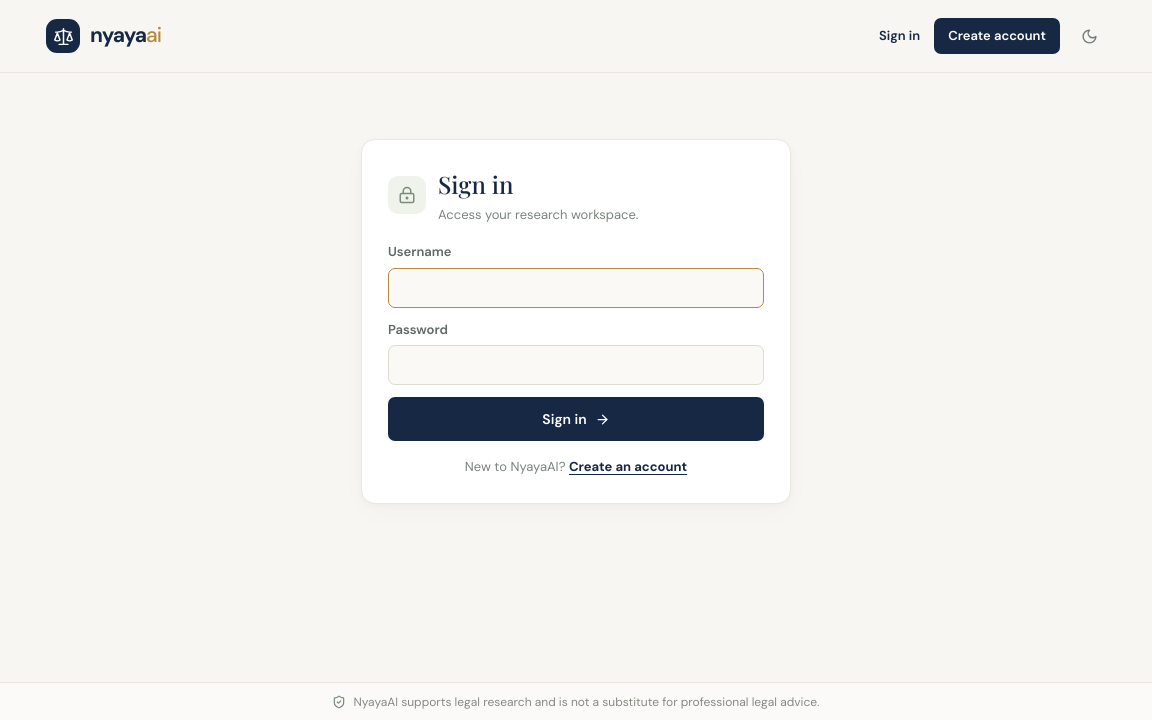
Test case: authentication and route protection › shows the server error for rejected credentials
Type "researcher" into the field labelled "Username" at (576, 288), box left=388, top=268, right=764, bottom=308
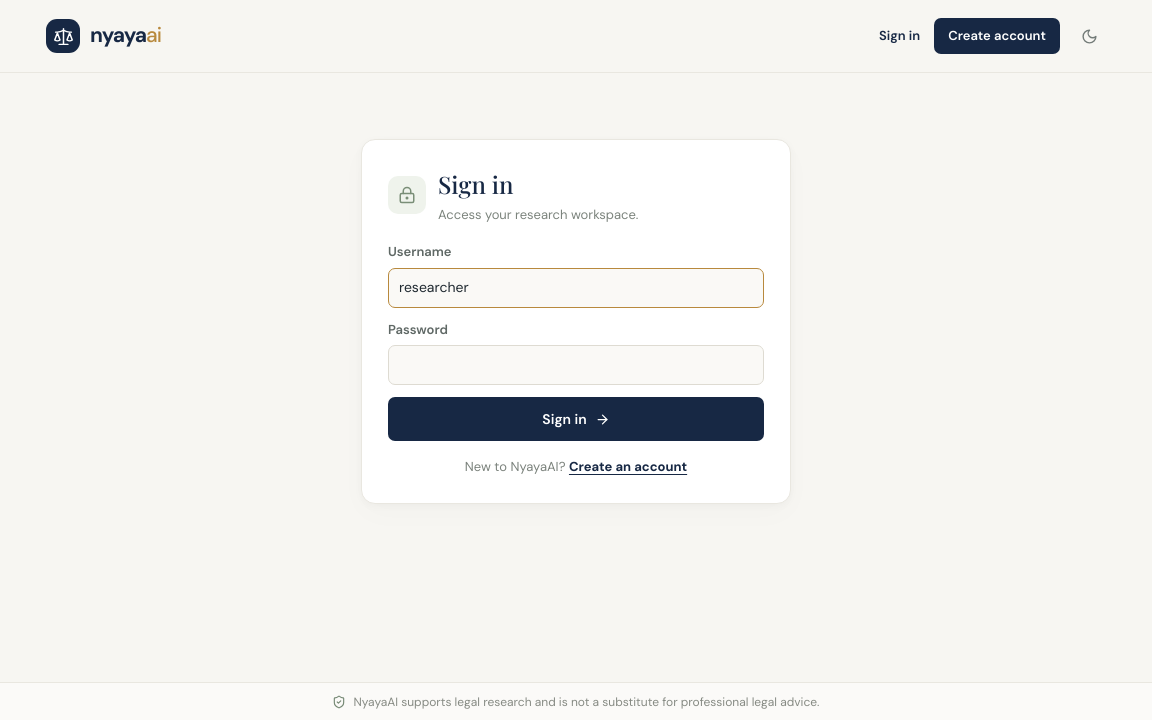
Type "wrong-password" into the password field labelled "Password" at (576, 365), box left=388, top=345, right=764, bottom=385
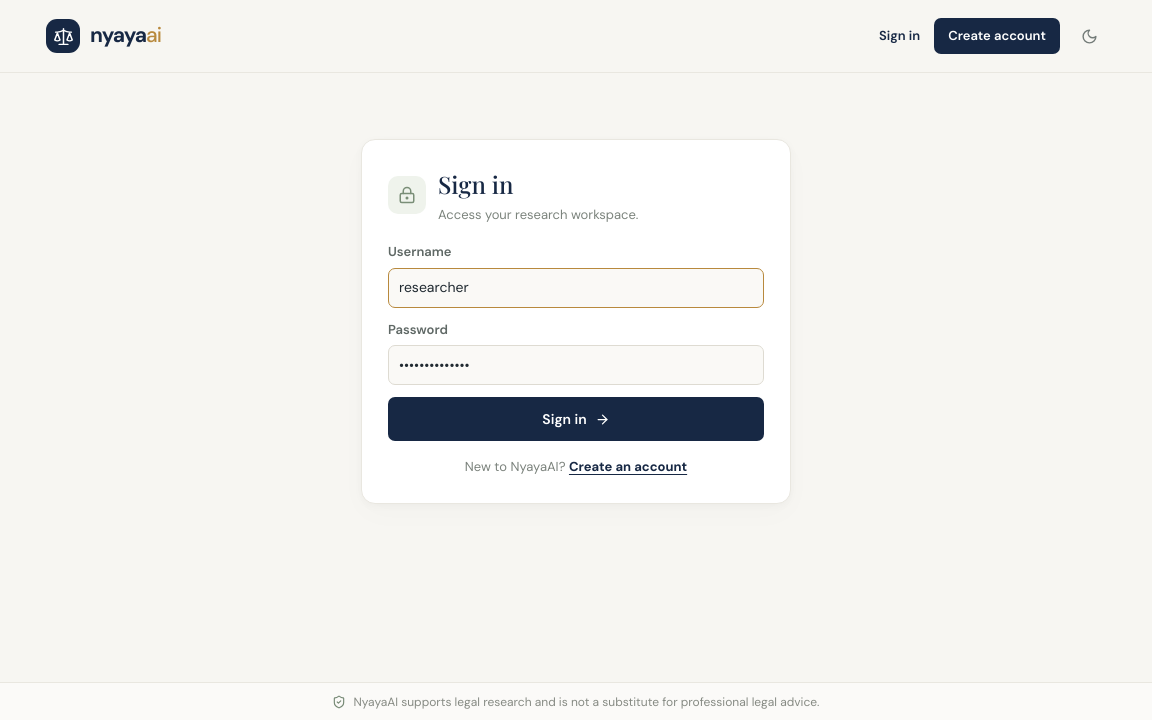
Click the button "Sign in" at (576, 419), box left=388, top=397, right=764, bottom=441
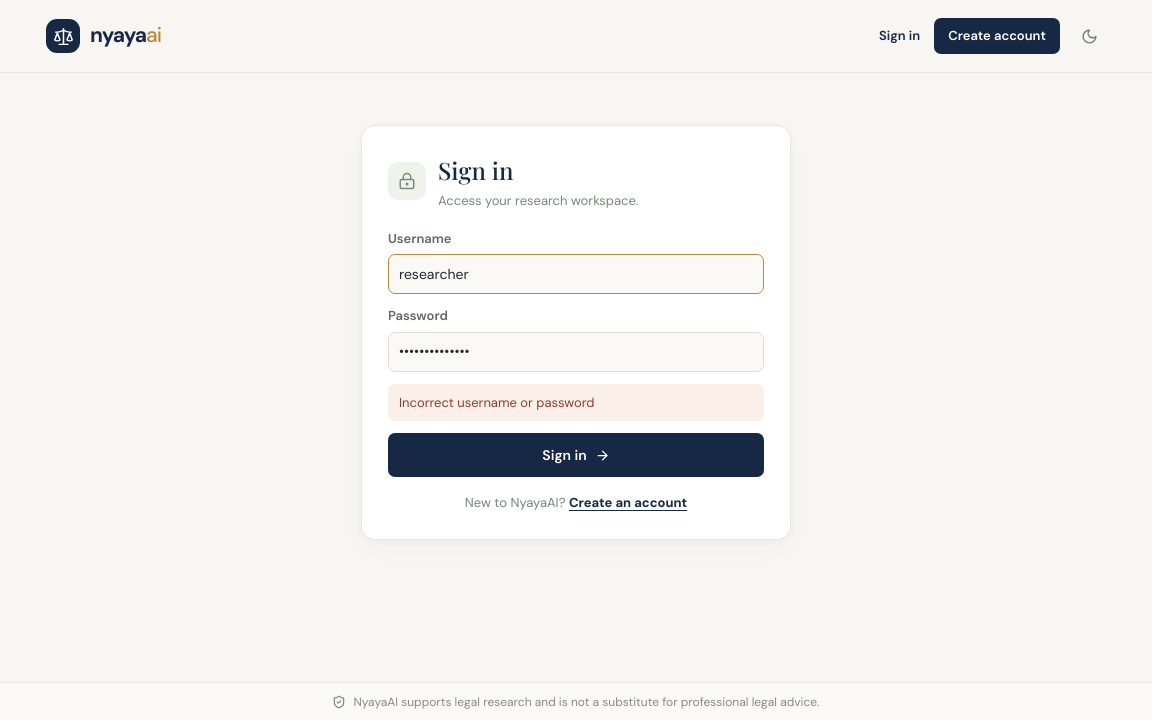
Check: the message reads "Incorrect username or password", box left=399, top=394, right=594, bottom=410
